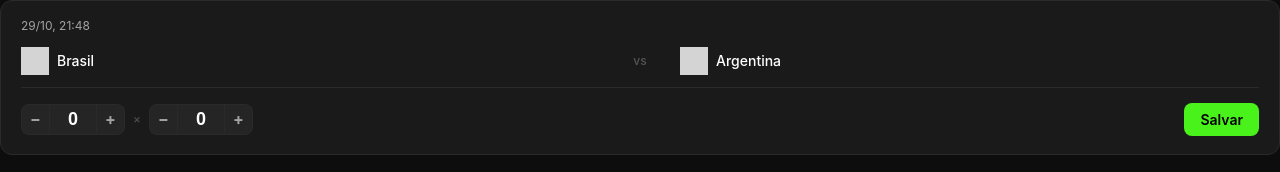
Test: MatchCard – Stepper "+" › increments from 0 to 1 when "+" is clicked
The image size is (1280, 172).
Click the button named "Aumentar placar Brasil" at (111,119), box [97,104,125,134]
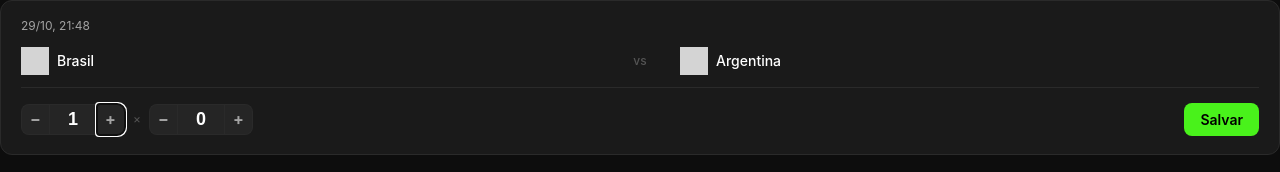
Expected: the number field named "Placar Brasil" holds "1", [49,104,97,134]
